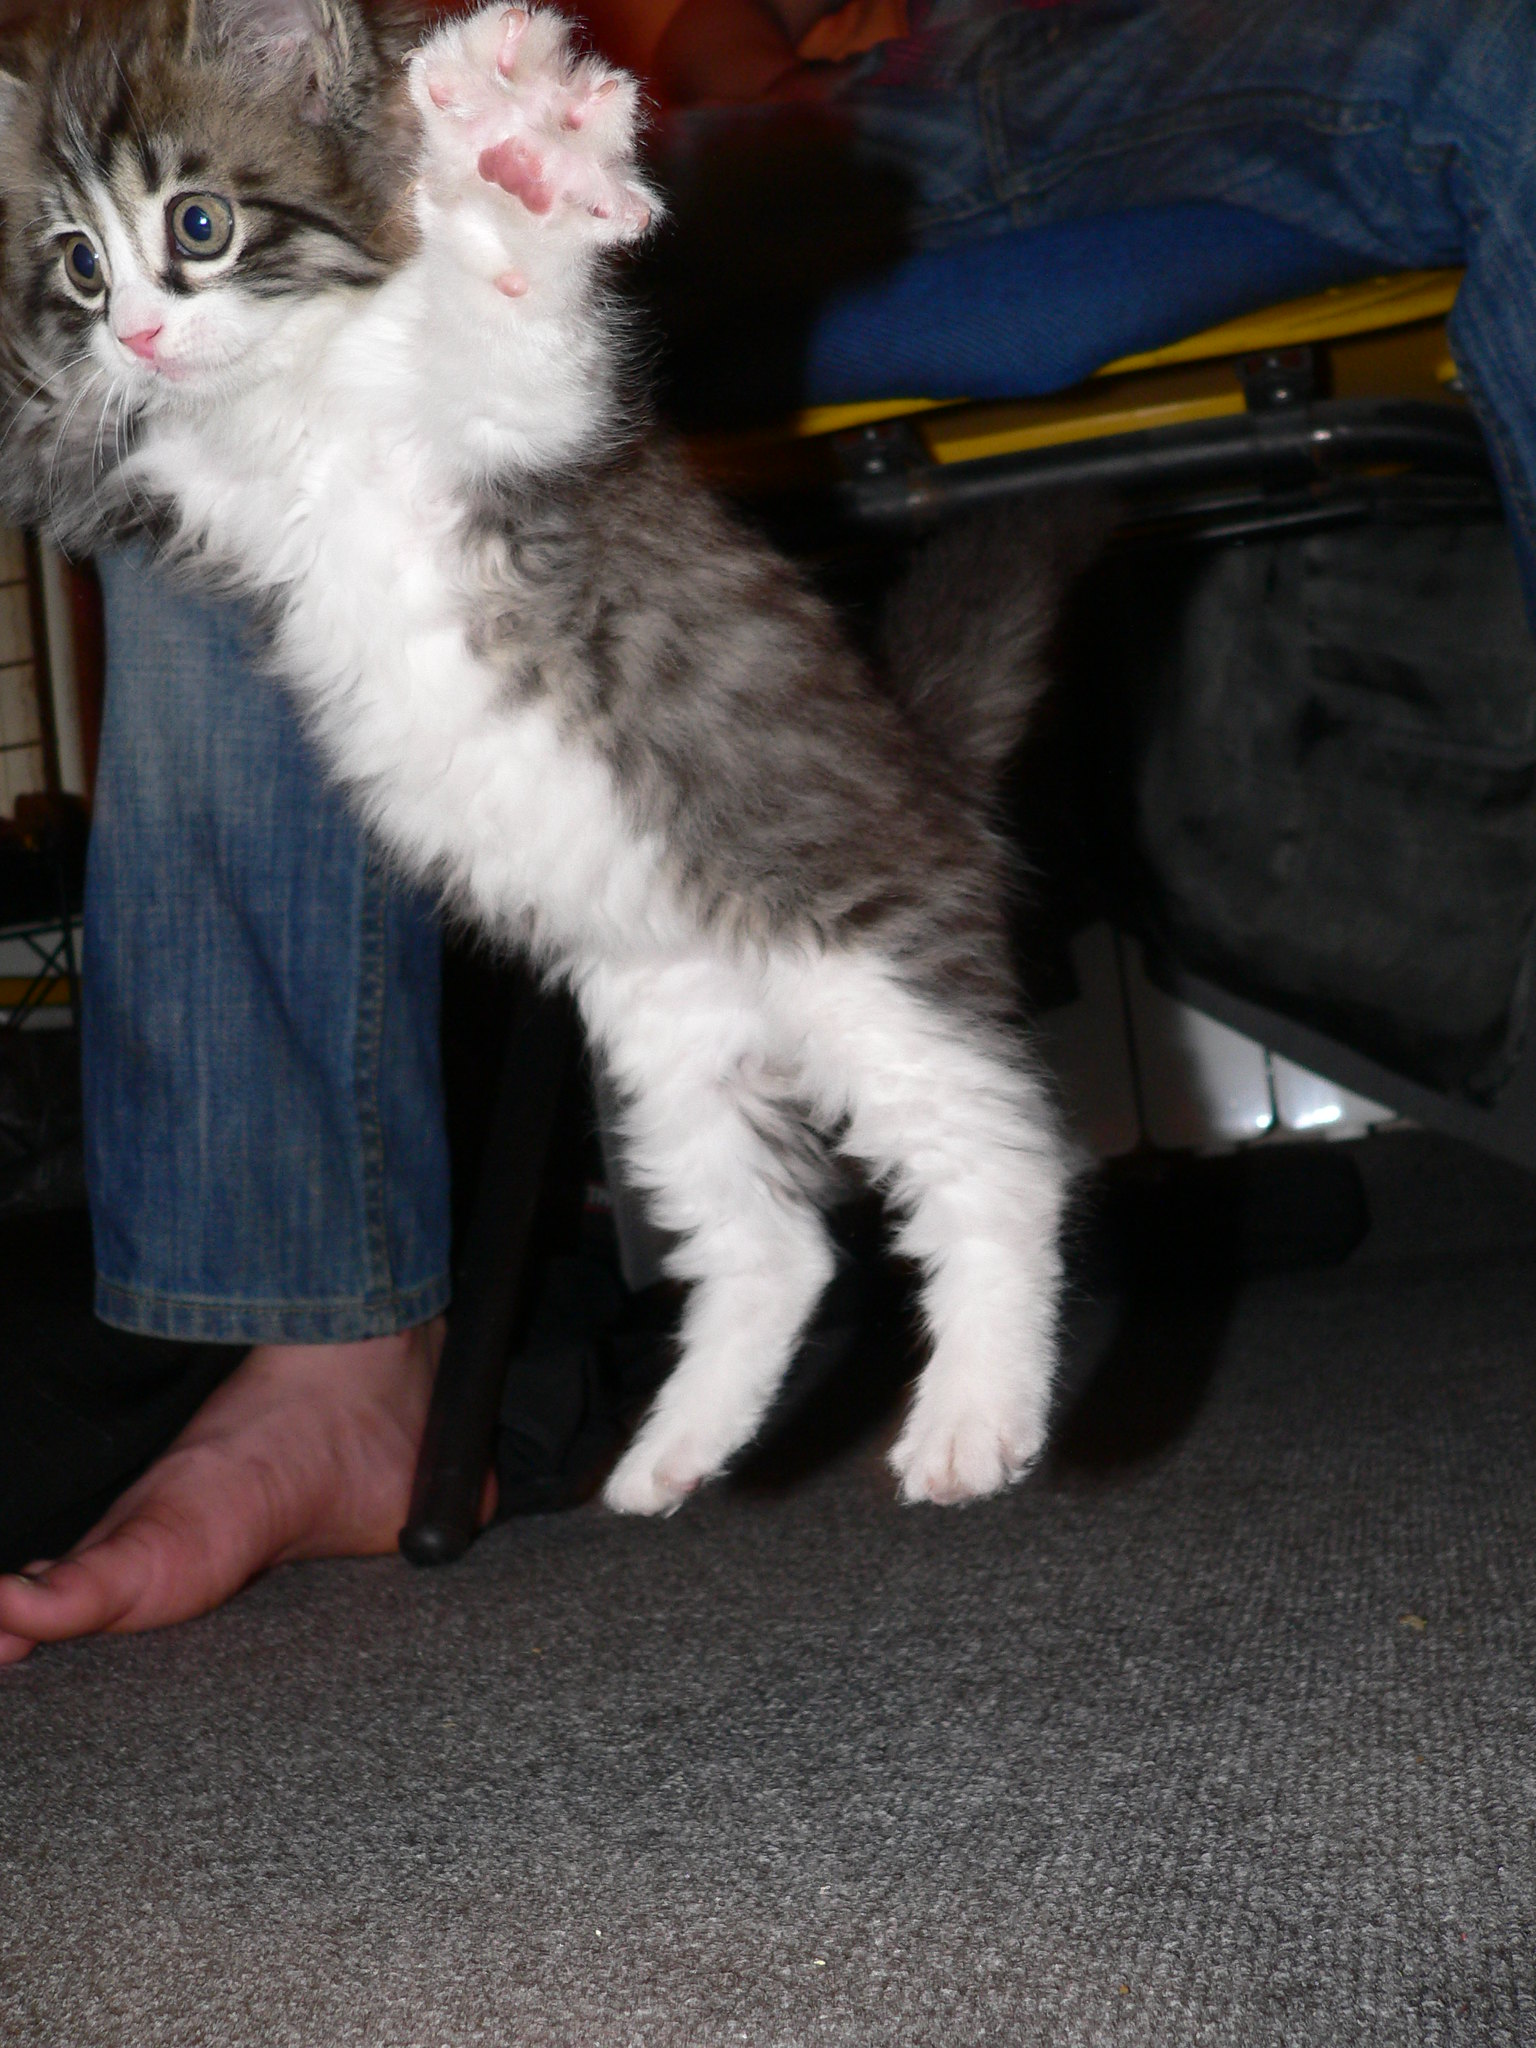cat: (2, 2, 1112, 1522)
